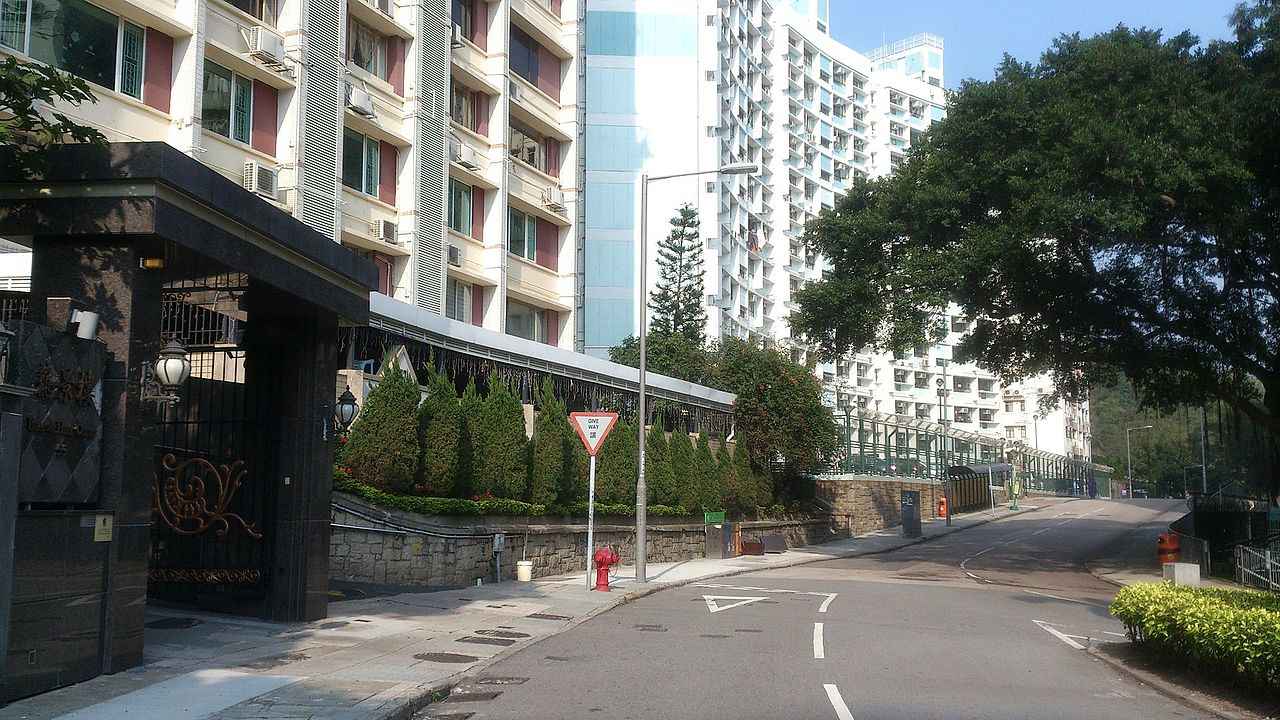Give Way: (569, 411, 620, 459)
